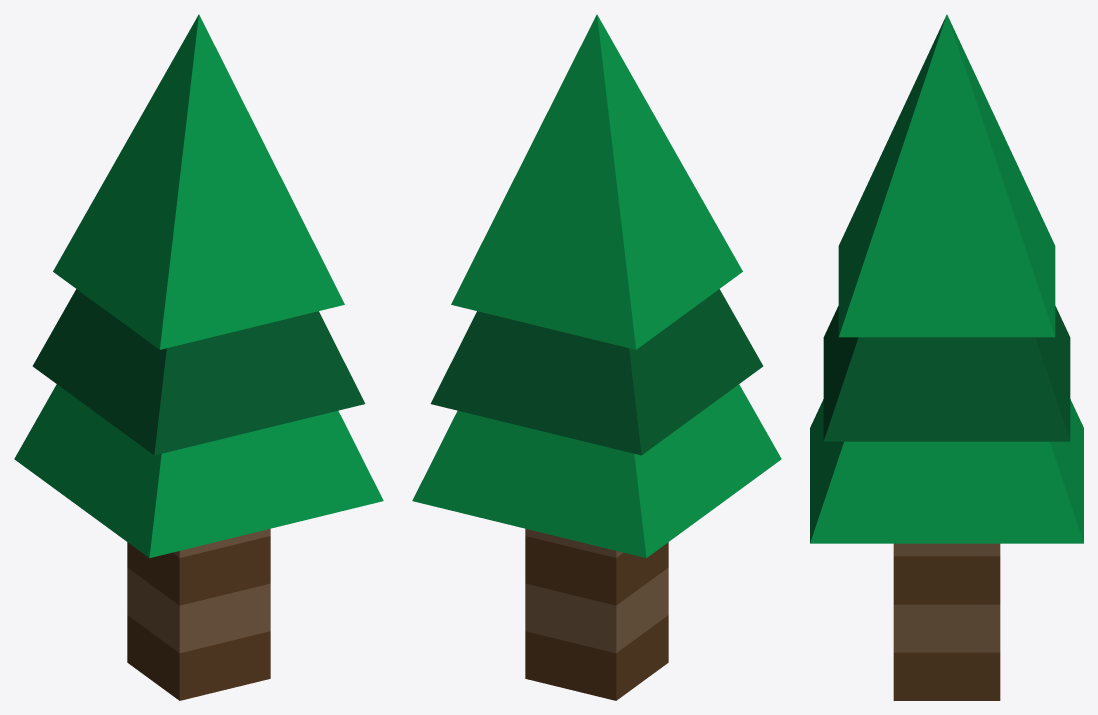
The model's file is tree2.fbx.
3 views of the same model, side by side, from view 1: azimuth 30°, elevation 25°; view 2: azimuth 150°, elevation 25°; view 3: azimuth 270°, elevation 25° (orthographic).
Visible parts, largest first — view 1: Cube; view 2: Cube; view 3: Cube.
Part boxes in pixels (x1,y1,x2,y2): Cube: [14, 14, 383, 700]; Cube: [412, 14, 781, 700]; Cube: [810, 14, 1083, 700].
Bounding box in the file's own units: 257 × 689 × 257.
